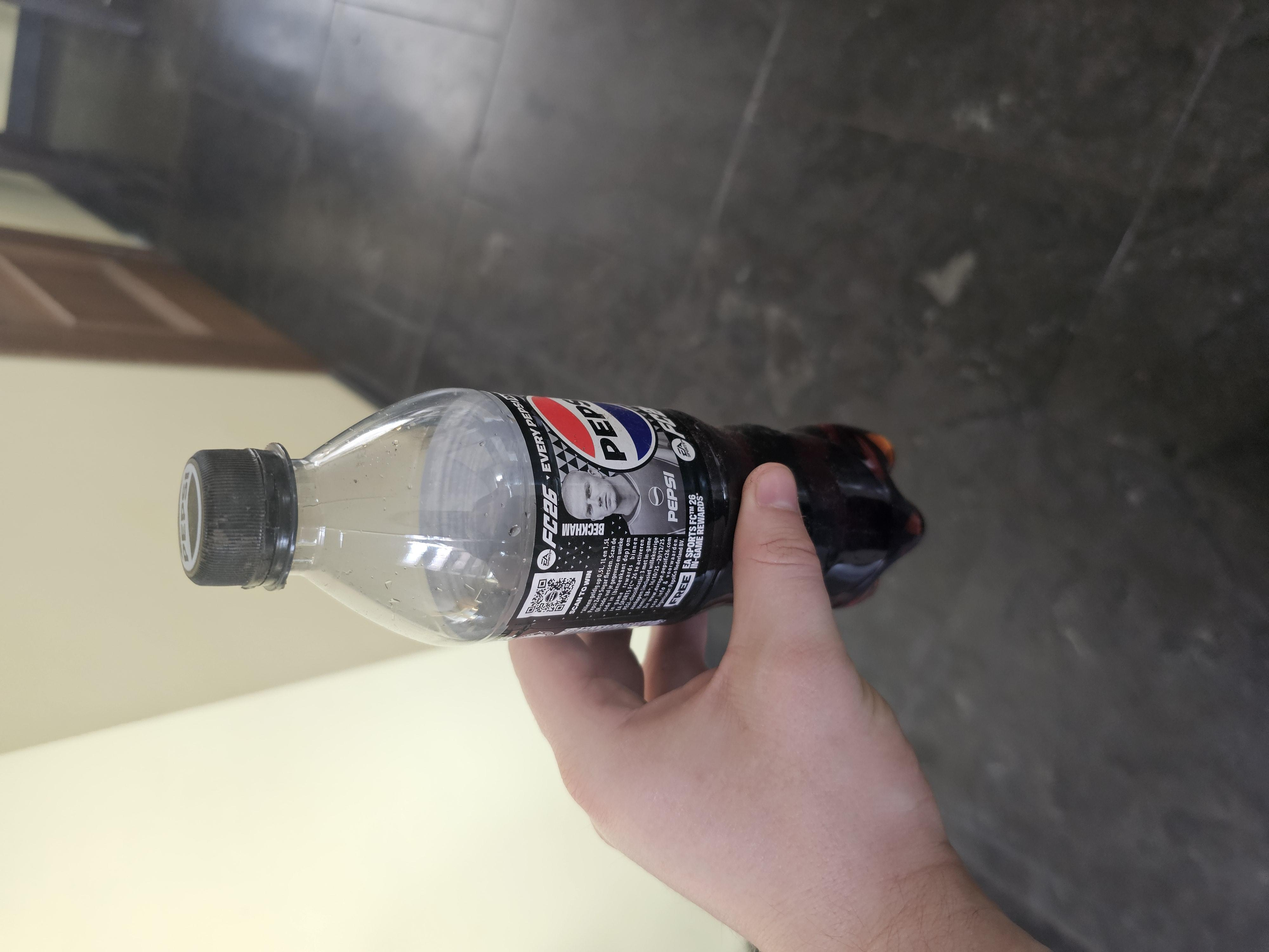Plastic: (412, 133, 739, 700)
